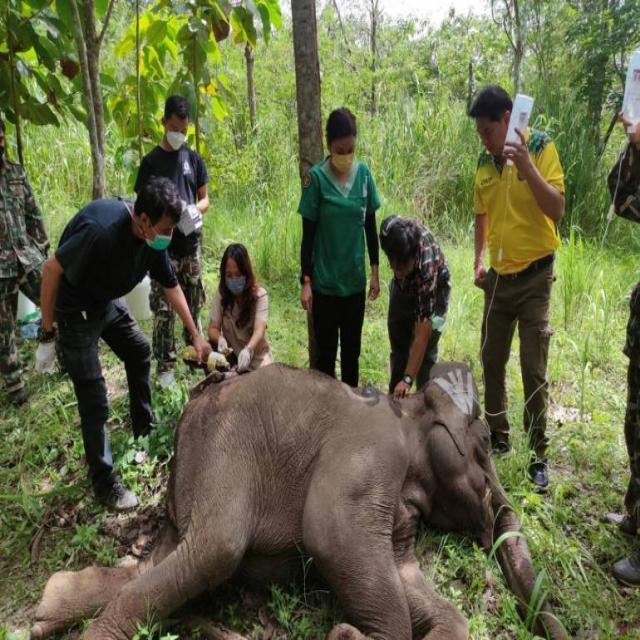Elephant: (138, 348, 561, 638)
